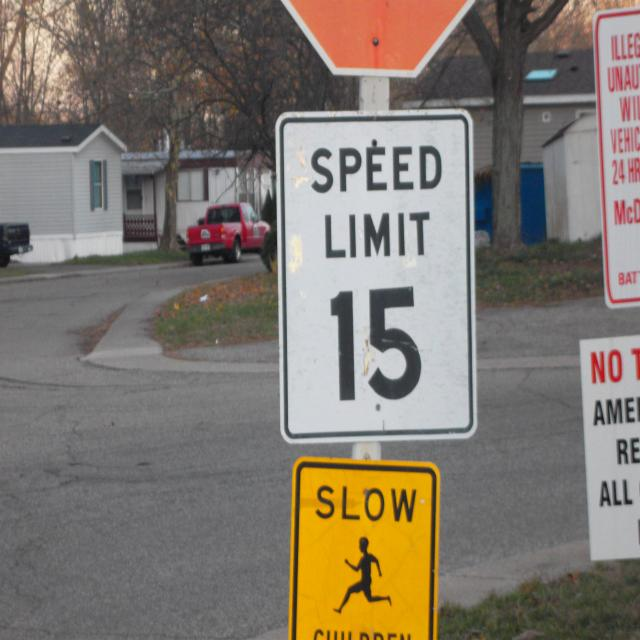regulatory: (276, 107, 482, 448), (590, 2, 640, 311)
stop: (273, 0, 482, 77)
warning: (286, 456, 444, 640)
